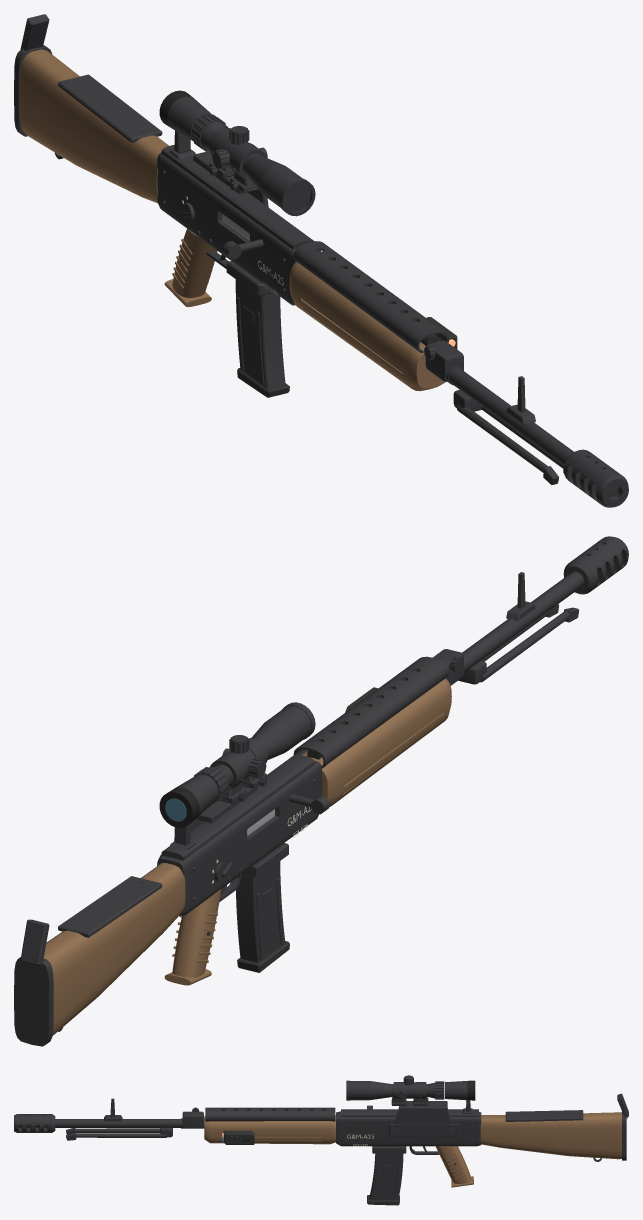
The picture shows the model from 3 angles, top to bottom: view 1: azimuth 30°, elevation 25°; view 2: azimuth 150°, elevation 25°; view 3: azimuth 270°, elevation 25°; orthographic projection. The views are drawn at different scales.
Parts seen in each view (by area): view 1: Body; view 2: Body; view 3: Body, opt_laser.
Part boxes in pixels (bbox=[...]): Body: bbox=[14, 14, 628, 507]; Body: bbox=[14, 536, 628, 1046]; Body: bbox=[14, 1075, 628, 1205]; opt_laser: bbox=[222, 1130, 254, 1144].
Bounding box in the file's own units: 0.1195 × 0.2877 × 1.27.
